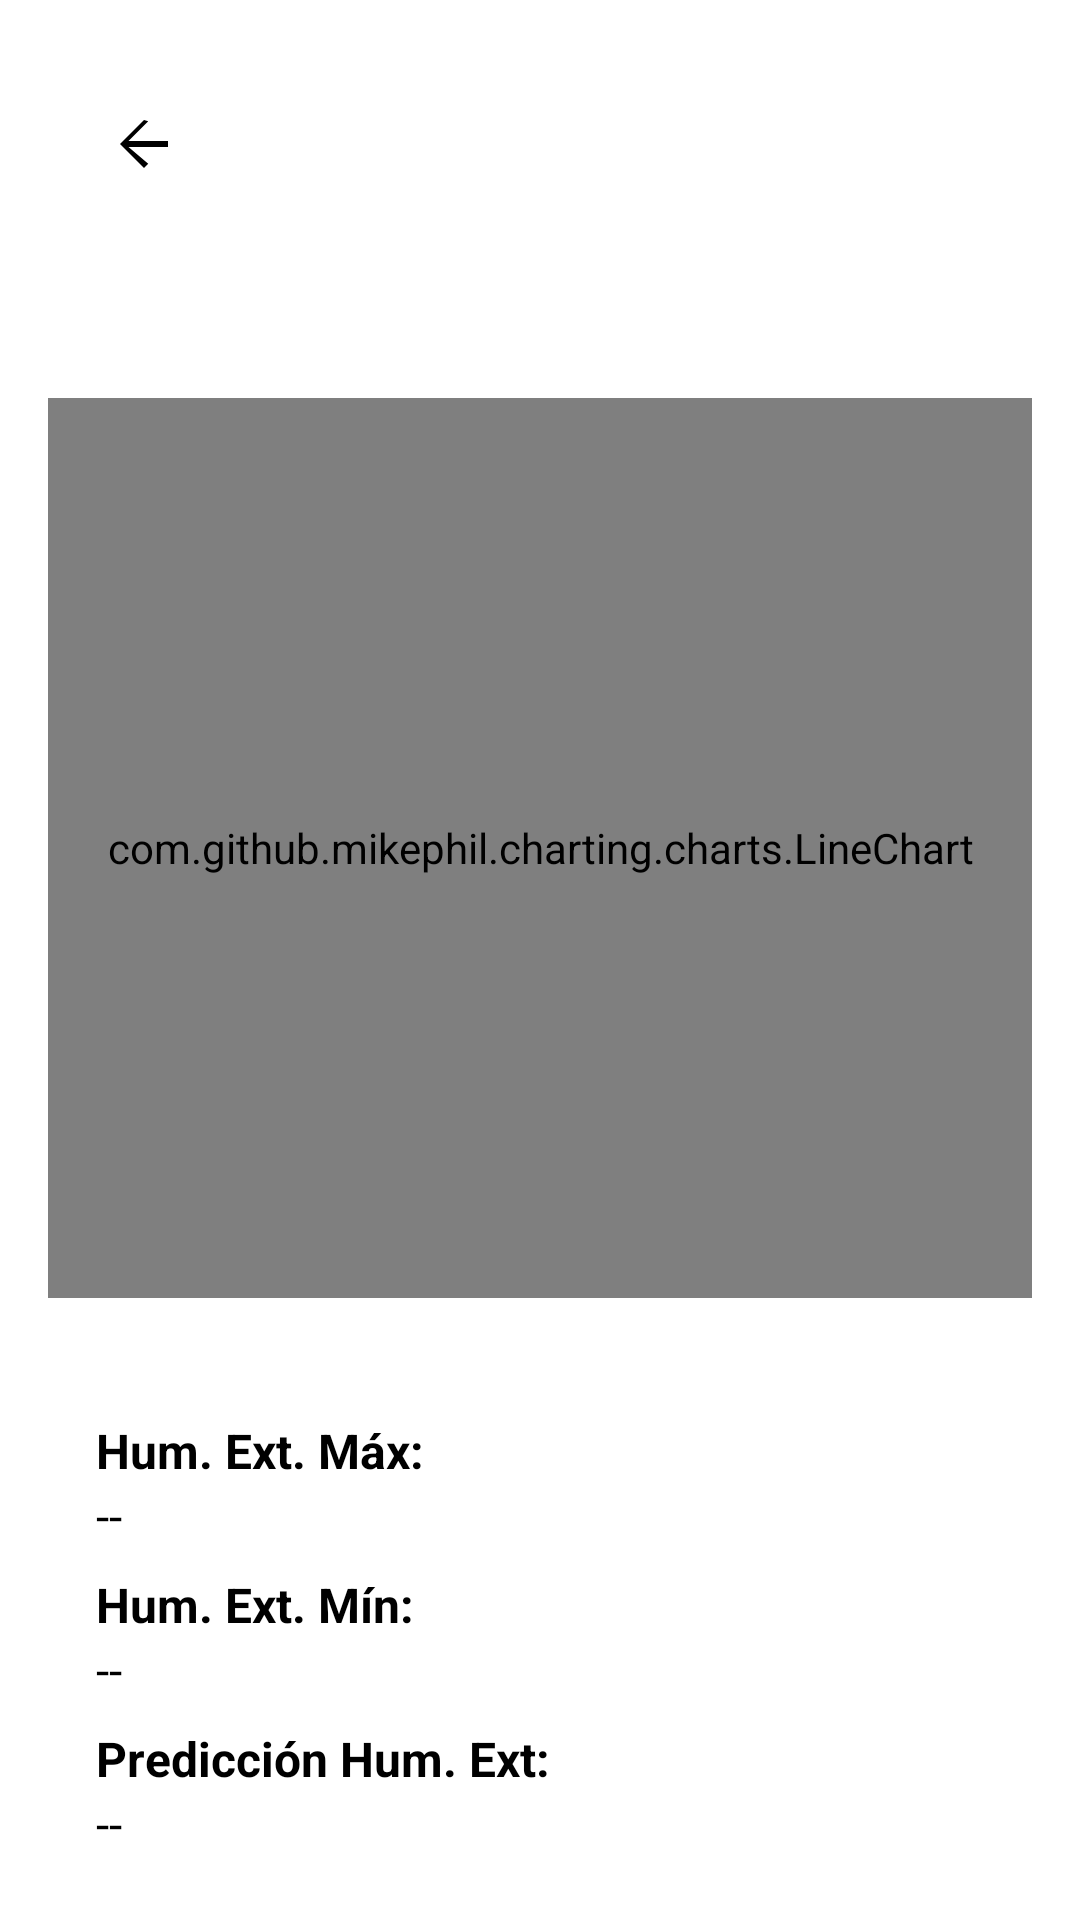

Icon click points for this 1080 x 1920 phone screenshot, format [x,y]:
Botón de regreso: [144,144]
